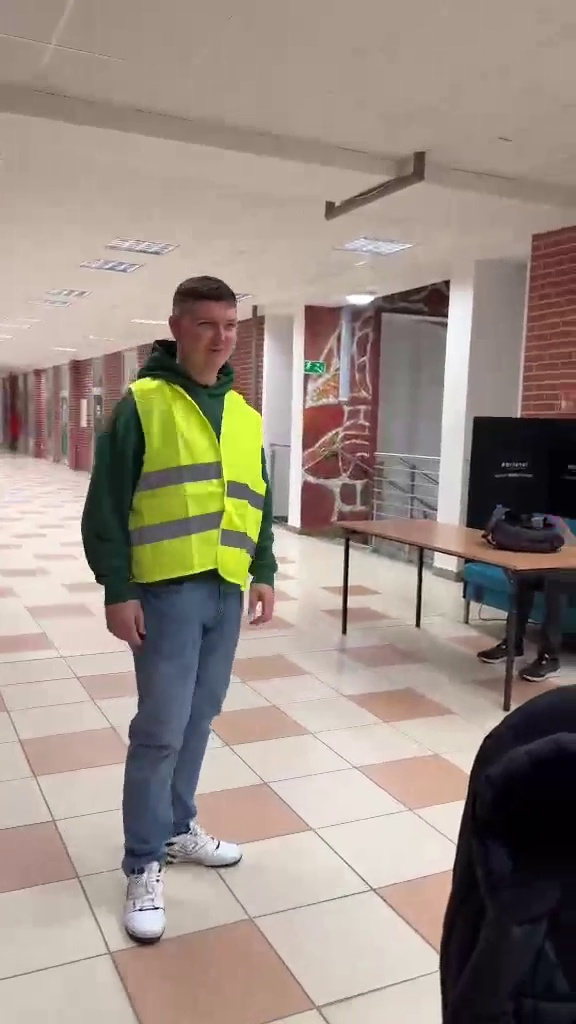vest: (83, 277, 275, 947)
